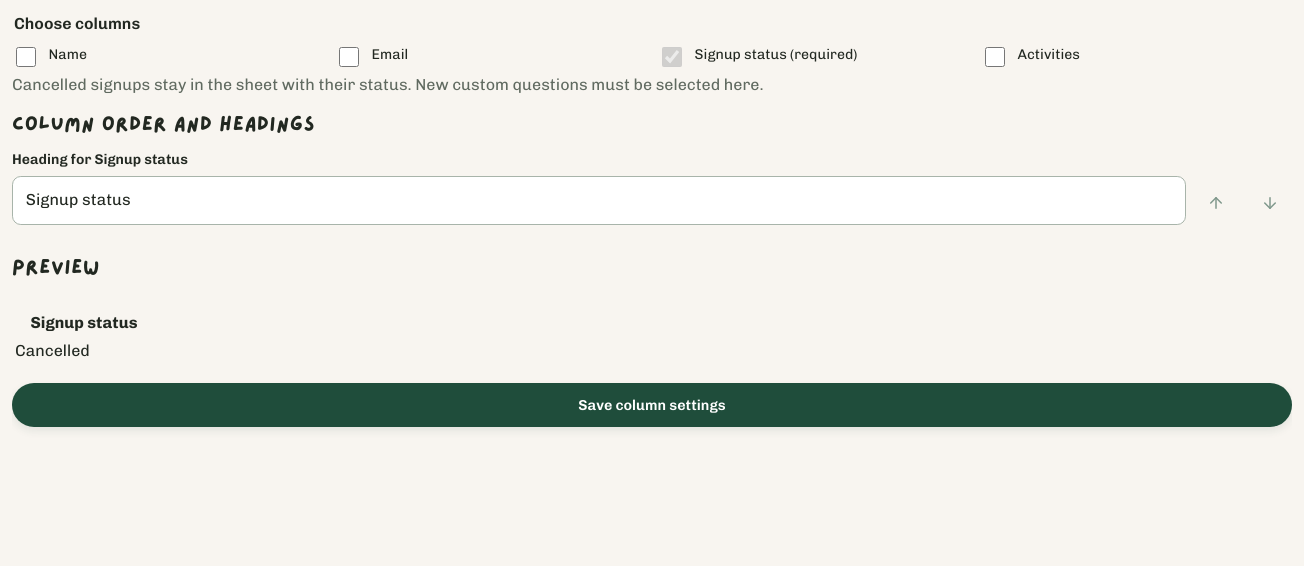
adds a previously unselected column and previews it from the full catalog
Step 1. Click the checkbox labelled "Activities" → [995, 57], box [985, 47, 1005, 67]
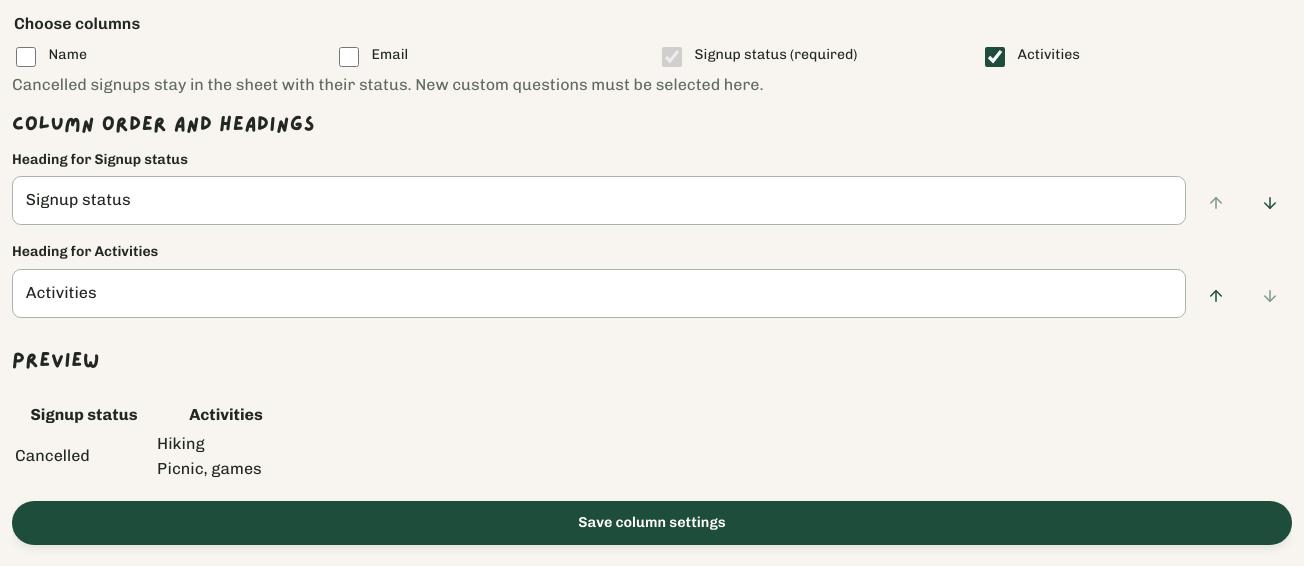
expect the button "Save column settings" is shown: met, box [12, 501, 1292, 545]
expect the cell "Hiking Picnic, games" is shown: met, box [156, 431, 296, 483]
